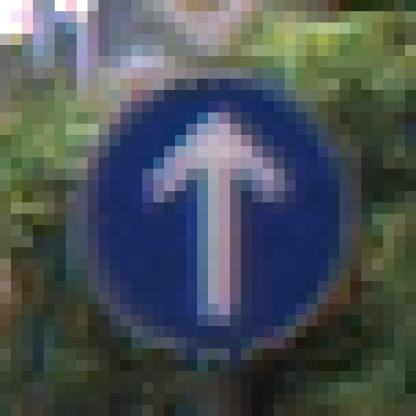AheadOnly: (67, 57, 351, 350)
